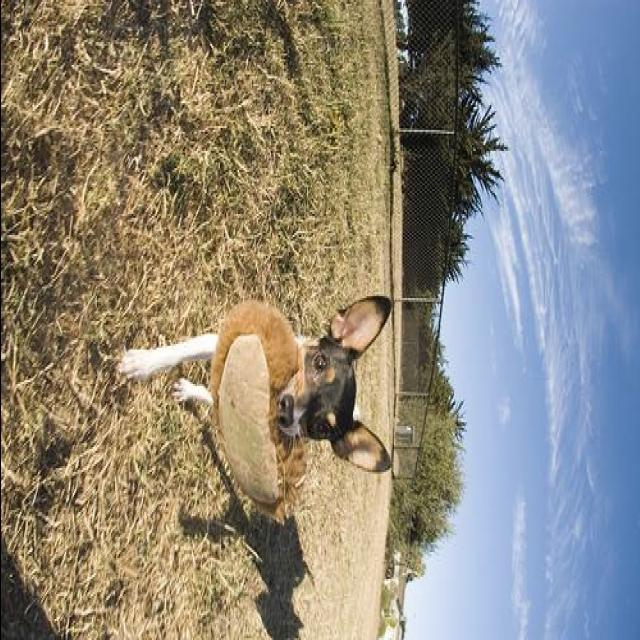toy_terrier: (114, 292, 393, 476)
